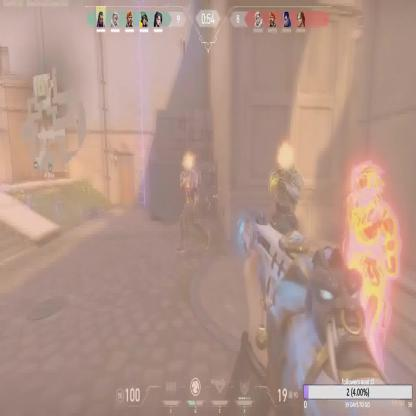enemy: (344, 157, 402, 383), (269, 137, 304, 307), (176, 150, 210, 253)
enemy_head: (351, 161, 384, 200), (277, 140, 294, 170), (182, 153, 195, 170)
